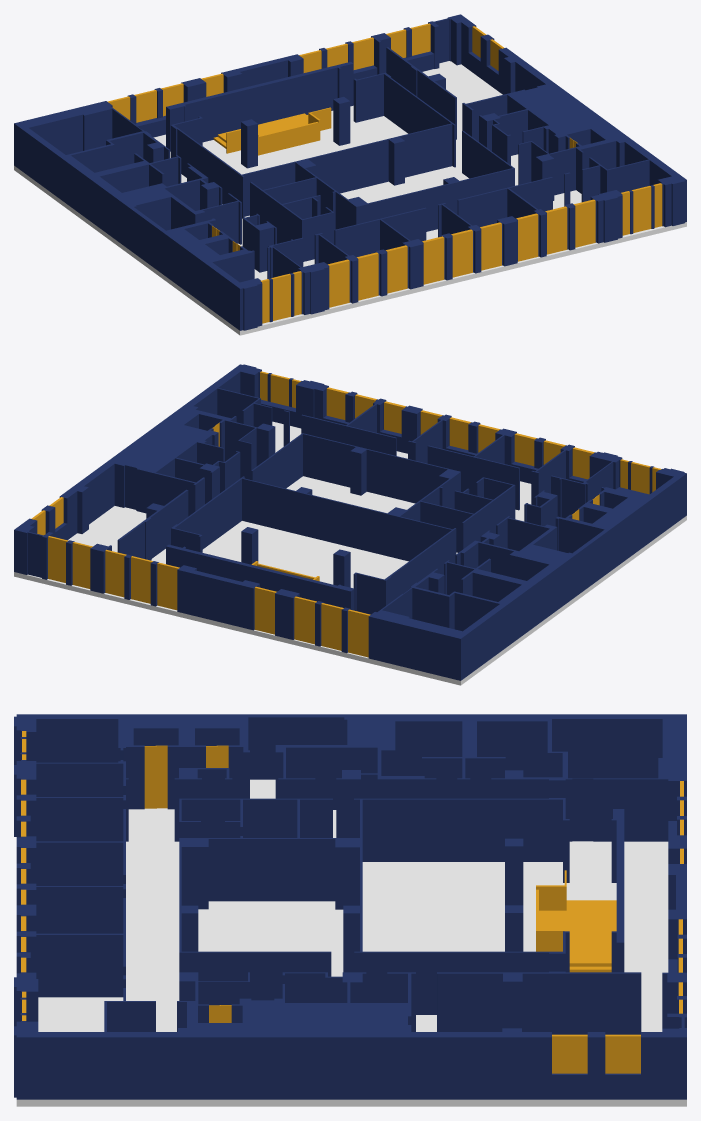
Rendered from 16W 7th Floor.fbx.
3 views of the same model, one above another, from view 1: azimuth 30°, elevation 25°; view 2: azimuth 150°, elevation 25°; view 3: azimuth 270°, elevation 25° (orthographic). The views are drawn at different scales.
Parts seen in each view (by area): view 1: Walls, Interior Member, Object_139; view 2: Walls, Interior Member, Object_139; view 3: Walls, Object_139, Interior Member.
Boxes of the visible parts, x1,y1,x2,y2 form: Walls: [14, 14, 686, 330]; Interior Member: [107, 23, 662, 323]; Object_139: [14, 61, 686, 335]; Walls: [14, 364, 686, 680]; Interior Member: [31, 371, 661, 657]; Object_139: [14, 421, 686, 685]; Walls: [14, 714, 686, 1099]; Object_139: [16, 779, 686, 1106]; Interior Member: [21, 731, 683, 1073].
Bounding box in the file's own units: 1201 × 1057 × 120.
